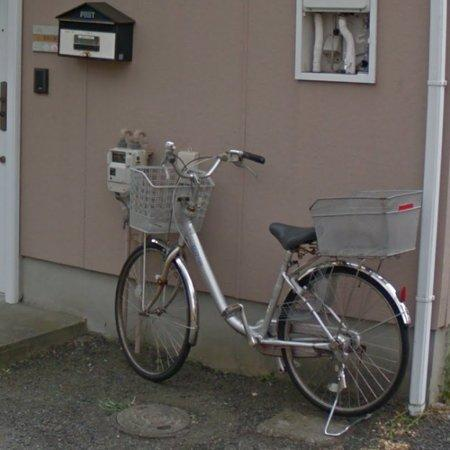bicycles: (115, 143, 412, 436)
